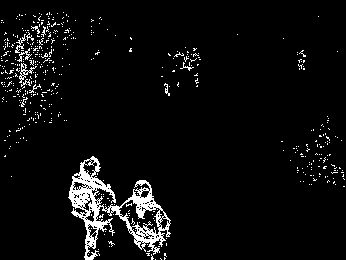person: (75, 154, 115, 258), (129, 180, 172, 260)
